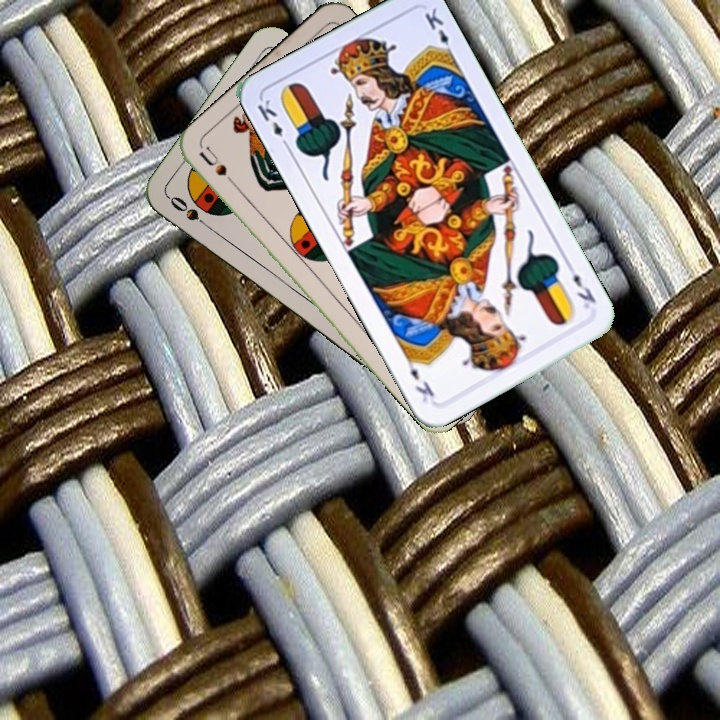EK: (253, 95, 293, 151), (562, 259, 599, 312)
SO: (165, 192, 216, 234)
SU: (195, 143, 243, 194)
